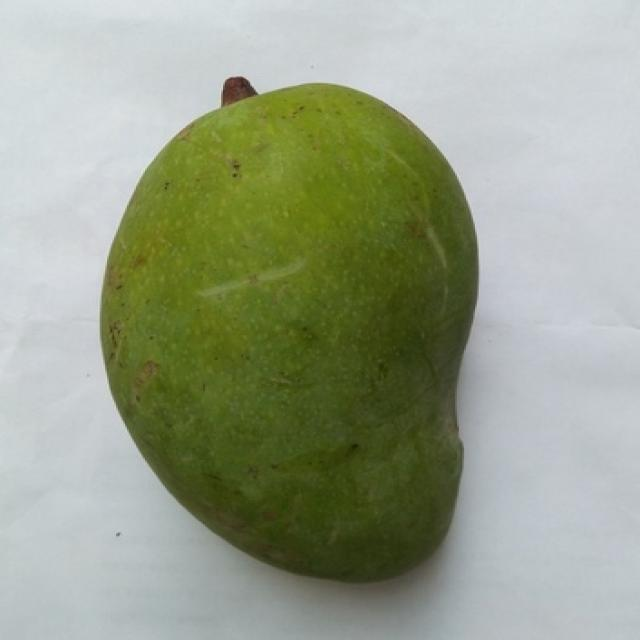Mango: (102, 79, 477, 580)
